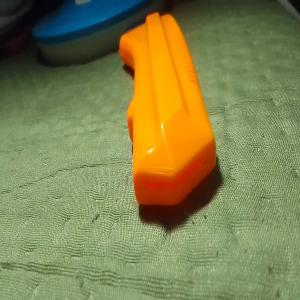estilete: (119, 0, 217, 207)
